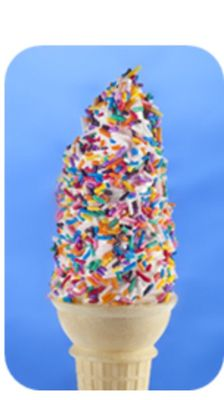soup: (48, 65, 180, 389)
